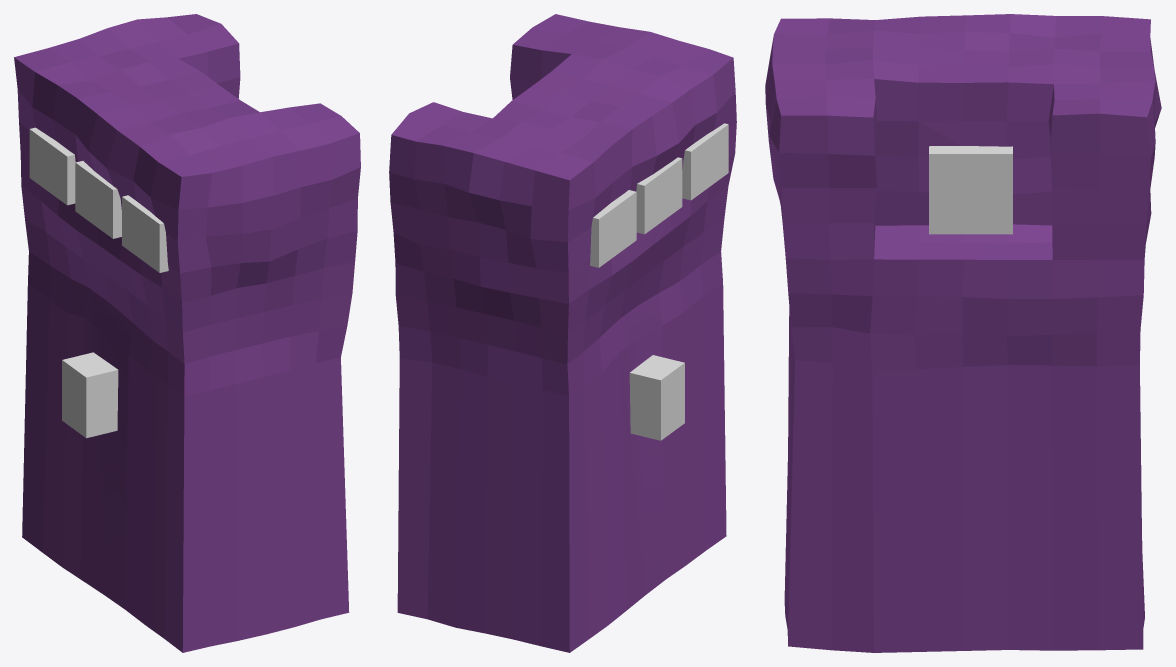
File: Townhall.fbx
The picture shows the model from 3 angles, left to right: view 1: azimuth 30°, elevation 25°; view 2: azimuth 150°, elevation 25°; view 3: azimuth 270°, elevation 25°; orthographic projection. The views are drawn at different scales.
Visible parts, largest first — view 1: House.001, Cube.002, Cube.007, Cube.008, Cube.009; view 2: House.001, Cube.002, Cube.007, Cube.008, Cube.009; view 3: House.001, Cube.006.
Boxes of the visible parts, x1,y1,x2,y2 form: House.001: (14, 14, 360, 652); Cube.002: (62, 352, 118, 438); Cube.007: (29, 127, 75, 205); Cube.008: (75, 161, 121, 238); Cube.009: (122, 195, 168, 272); House.001: (389, 14, 736, 652); Cube.002: (629, 355, 684, 440); Cube.007: (590, 190, 636, 267); Cube.008: (636, 157, 682, 234); Cube.009: (682, 123, 728, 200); House.001: (765, 14, 1161, 652); Cube.006: (929, 146, 1012, 234).
Bounding box in the file's own units: 291 × 662 × 435.
